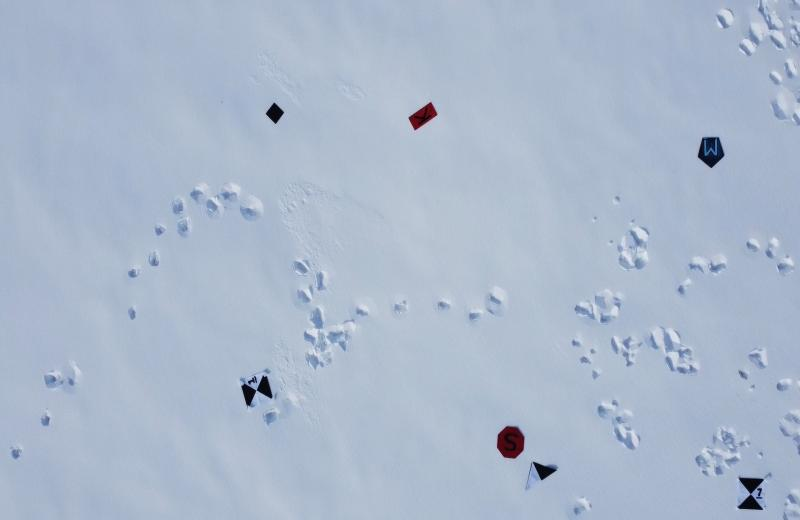Octagon: (495, 423, 526, 460)
Pentagon: (696, 135, 726, 170)
Square: (407, 101, 440, 132), (266, 100, 284, 127)
